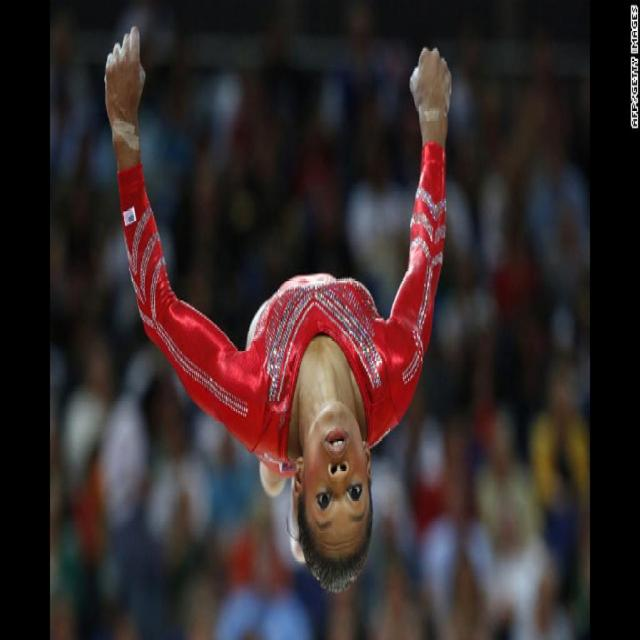nomask: (306, 407, 372, 578)
